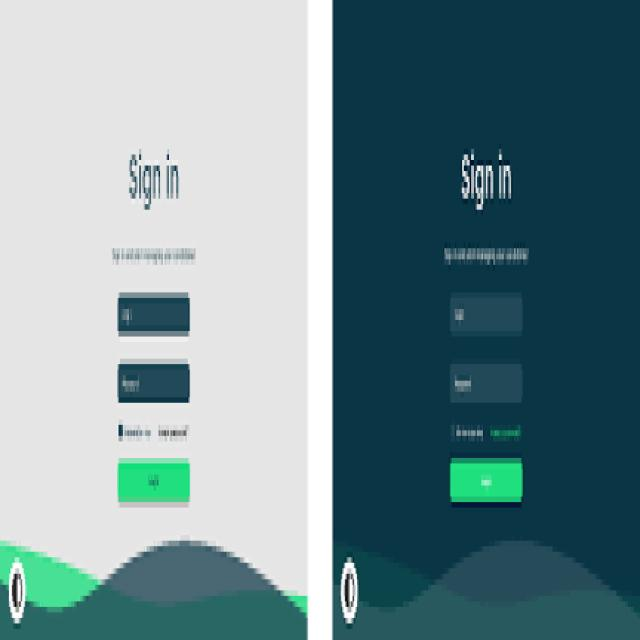button: (451, 455, 523, 505)
input field: (119, 290, 190, 330), (450, 293, 522, 332), (118, 366, 190, 400), (451, 363, 521, 392)
